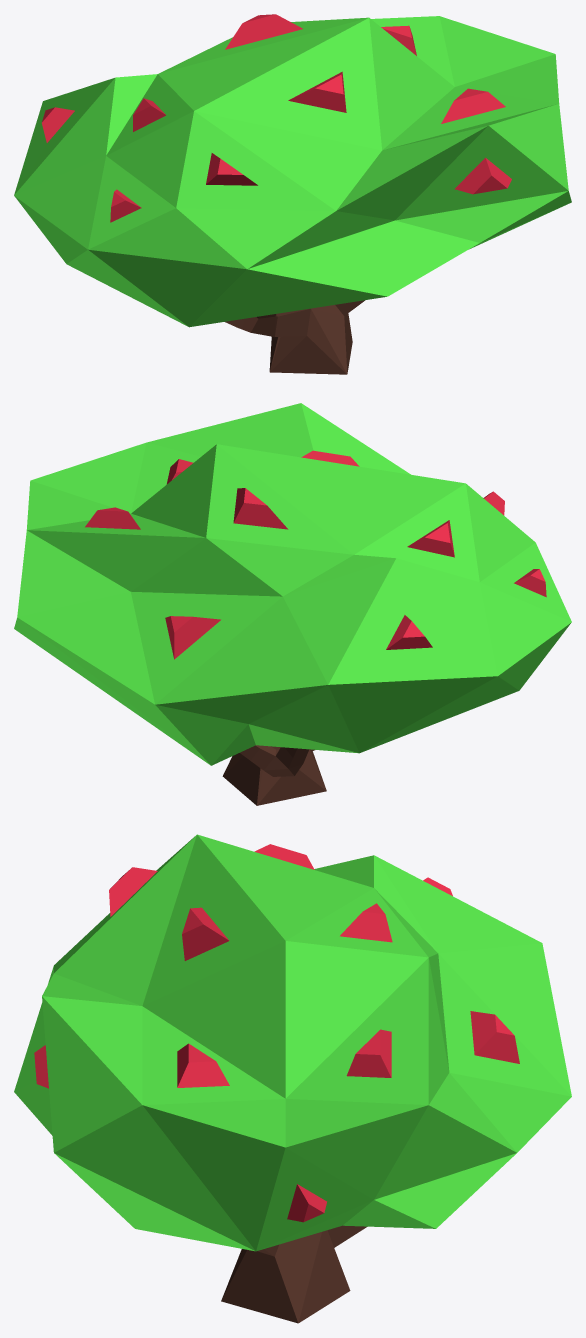
The model's file is Bush4.fbx.
The picture shows the model from 3 angles, top to bottom: view 1: azimuth 30°, elevation 25°; view 2: azimuth 150°, elevation 25°; view 3: azimuth 270°, elevation 25°; orthographic projection. The views are drawn at different scales.
Visible parts, largest first — view 1: Leaves10, Trunk10; view 2: Leaves10, Trunk10; view 3: Leaves10, Trunk10.
Boxes of the visible parts, x1=… form: Leaves10: x1=14, y1=14, x2=571, y2=327; Trunk10: x1=225, y1=300, x2=365, y2=374; Leaves10: x1=14, y1=403, x2=571, y2=765; Trunk10: x1=222, y1=745, x2=326, y2=805; Leaves10: x1=14, y1=834, x2=571, y2=1251; Trunk10: x1=221, y1=1225, x2=367, y2=1323.
Size of the model in its own units: 204 by 126 by 163.
